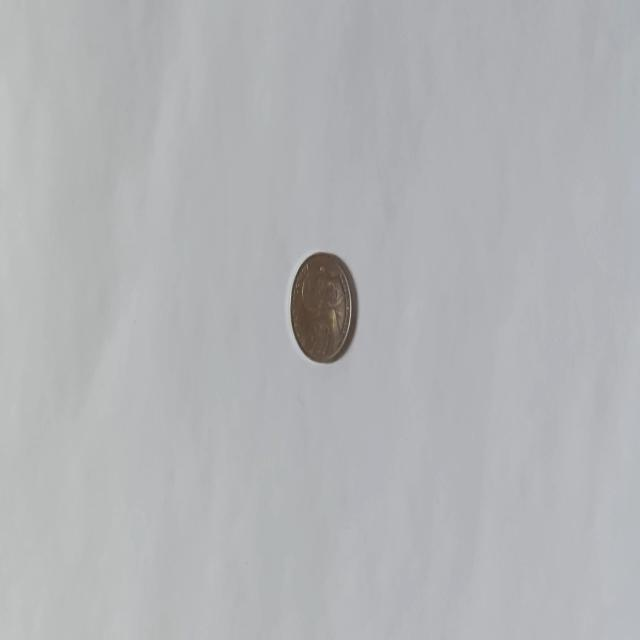seribu rupiah koin: (288, 250, 354, 364)
